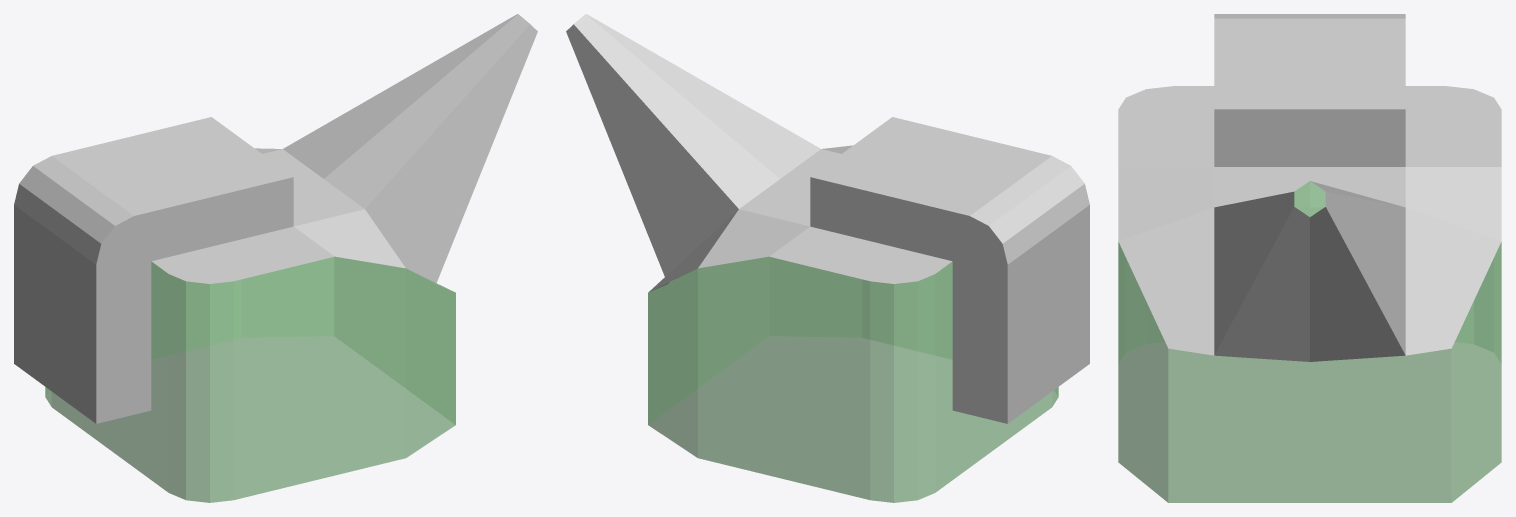
Rendered from Player_fuel.fbx.
The picture shows the model from 3 angles, left to right: view 1: azimuth 30°, elevation 25°; view 2: azimuth 150°, elevation 25°; view 3: azimuth 270°, elevation 25°; orthographic projection. The views are drawn at different scales.
Parts seen in each view (by area): view 1: Cube.002; view 2: Cube.002; view 3: Cube.002.
Boxes of the visible parts, <box> form: Cube.002: <box>14,14,537,502</box>; Cube.002: <box>566,14,1089,502</box>; Cube.002: <box>1118,14,1501,502</box>.
Size of the model in its own units: 142 by 94.77 by 83.92.
